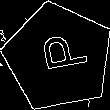P_W: (30, 34, 87, 80)
